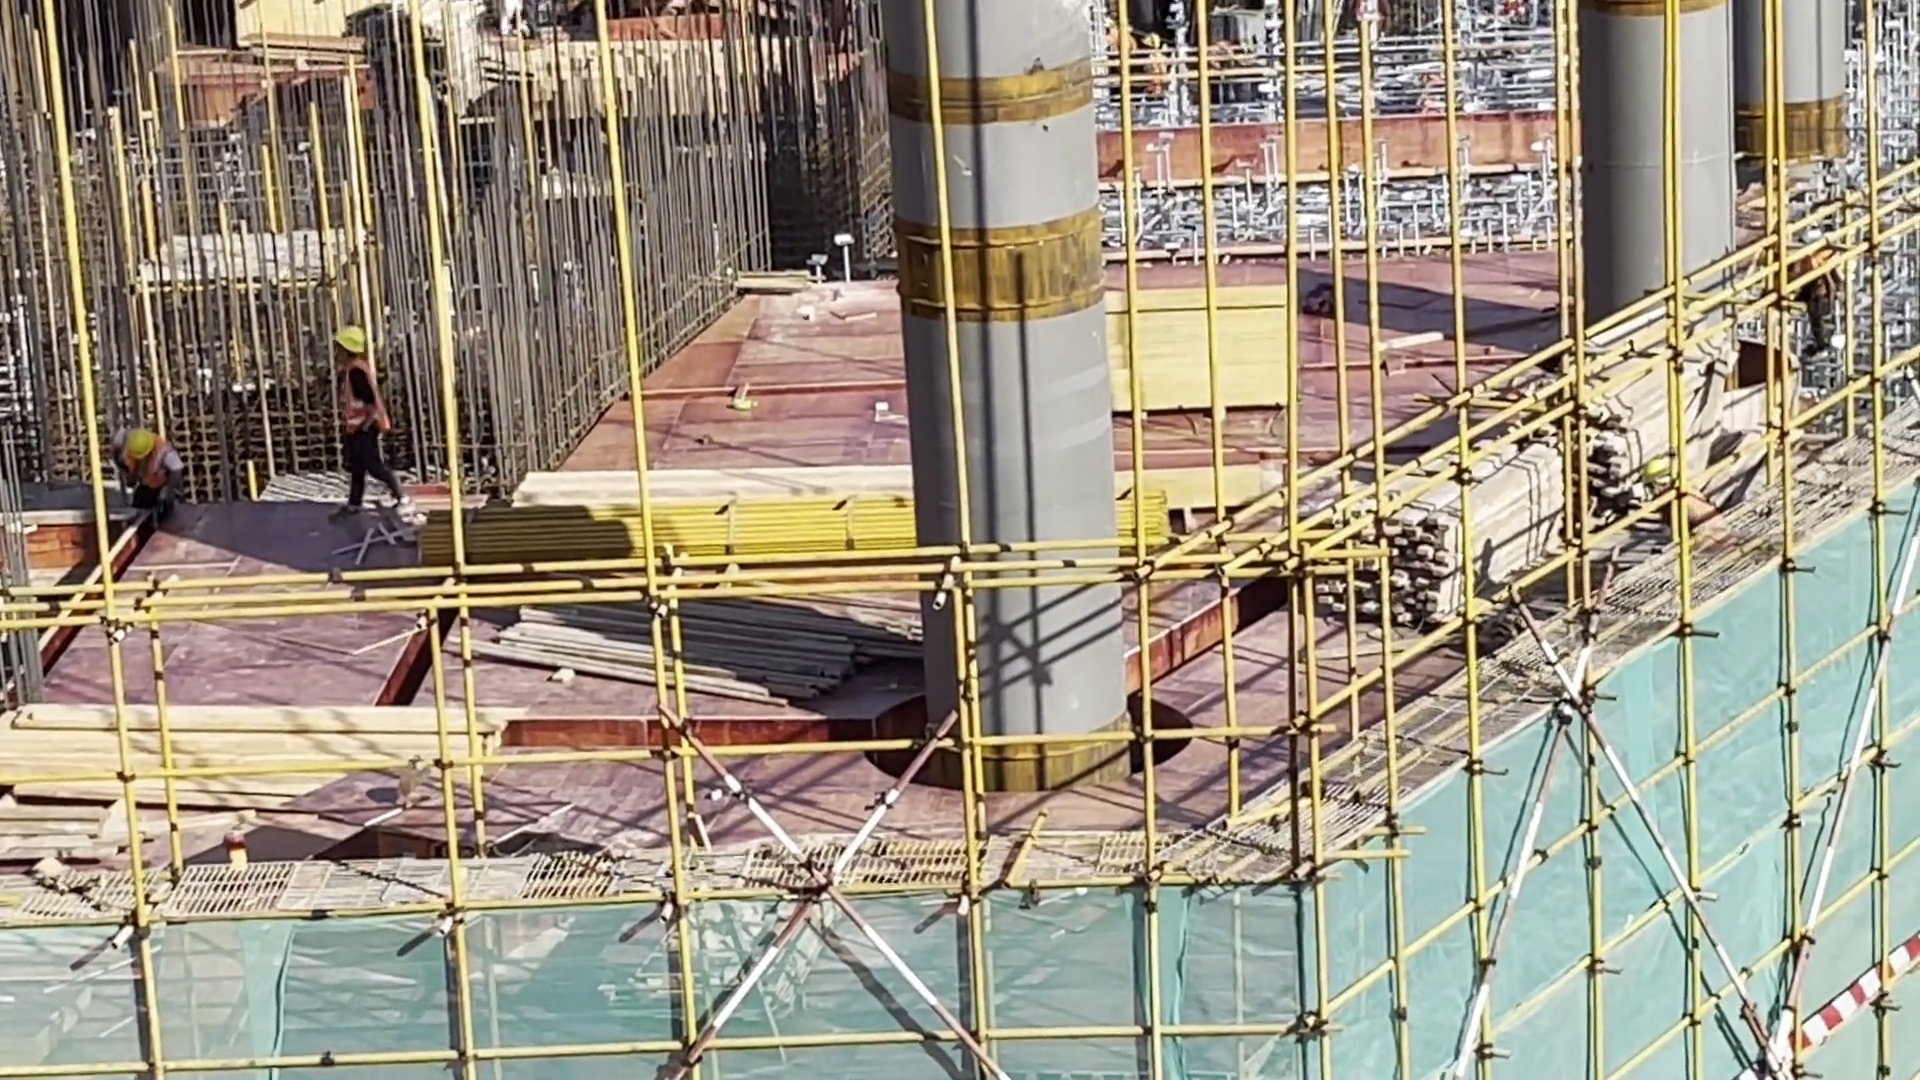board: (1077, 259, 1295, 422)
helmet: (325, 320, 383, 374), (119, 427, 159, 470)
person: (331, 312, 412, 523), (101, 427, 188, 541)
vest: (339, 362, 397, 438), (120, 445, 175, 497)
wood: (1, 696, 511, 806), (1295, 437, 1555, 642), (1570, 326, 1734, 487)
